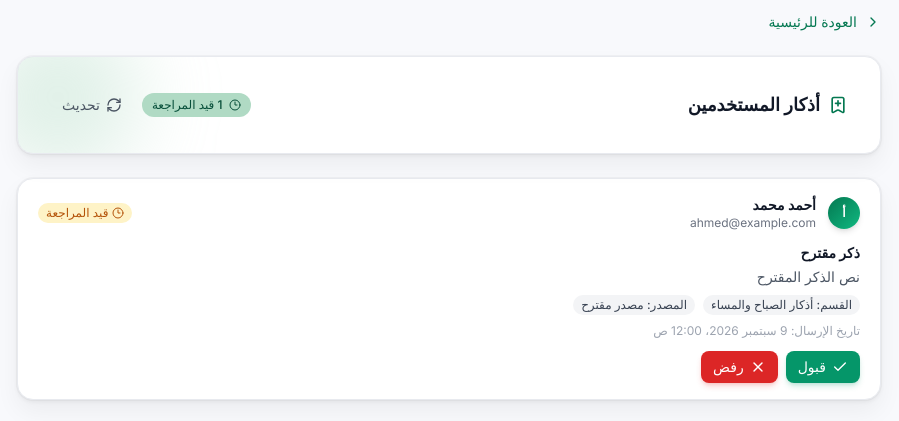
Test: AdminDhikrSubmissionsPage › approves a pending submission and toasts success
The width and height of the screenshot is (899, 421).
Click the button "قبول": (823, 367) [786,351,860,383]
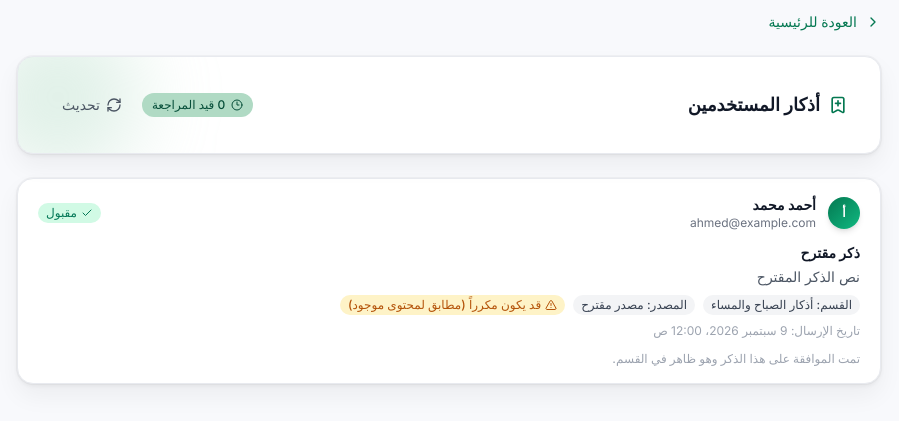
Now the text "تمت الموافقة على هذا الذكر وهو ظاهر في القسم." is shown, box [612,351,860,366]
